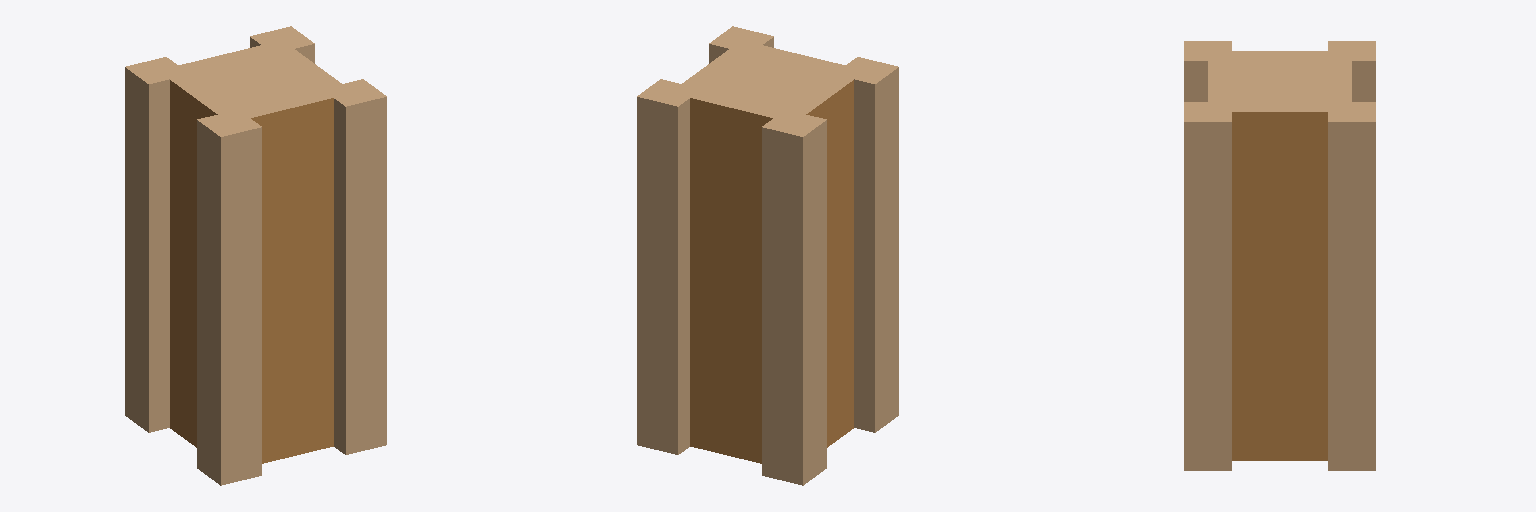
Rendered from Puzzle_Sliding_Pillar_Platform_Top.obj.
3 views of the same model, side by side, from view 1: azimuth 30°, elevation 25°; view 2: azimuth 150°, elevation 25°; view 3: azimuth 270°, elevation 25° (orthographic).
Parts seen in each view (by area): view 1: object1; view 2: object1; view 3: object1.
Boxes of the visible parts, box(x1,y1,x2,y2) form: object1: box(125, 26, 386, 485); object1: box(637, 26, 898, 485); object1: box(1184, 41, 1375, 470).
Bounding box in the file's own units: 0.4 × 0.8 × 0.4.